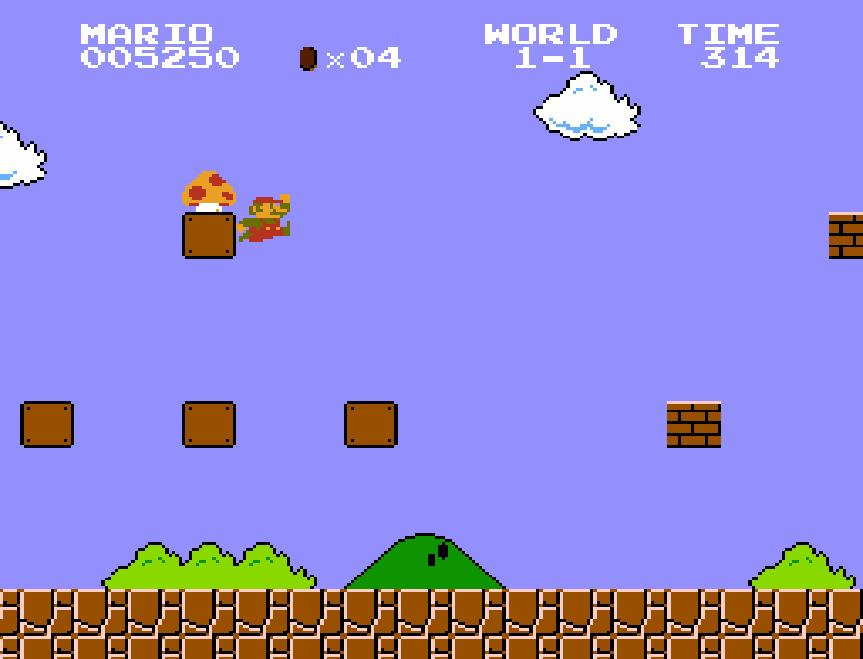little_mario: (234, 192, 291, 242)
